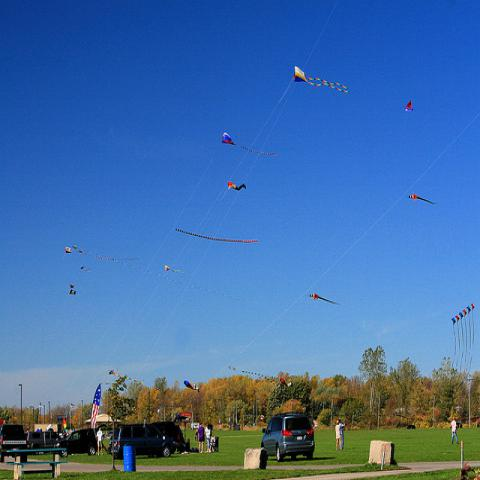car: (261, 412, 315, 462), (109, 424, 175, 458), (147, 421, 186, 458), (53, 427, 98, 458), (27, 431, 61, 449)
truck: (109, 422, 186, 460), (0, 425, 28, 463)
